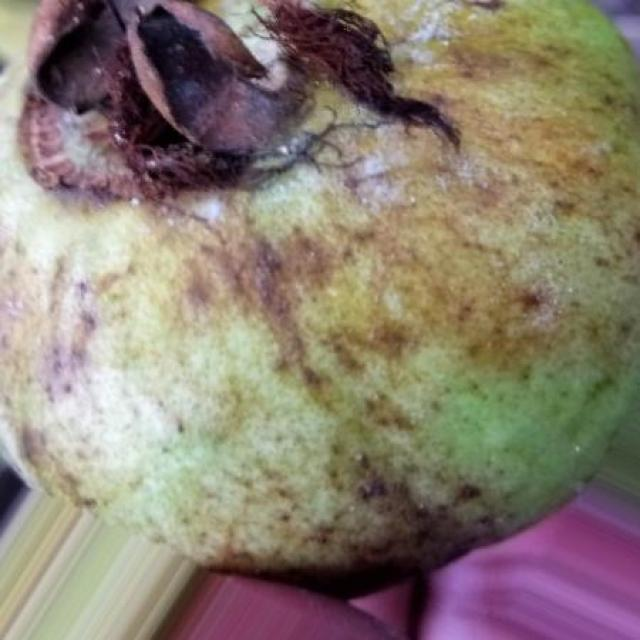Styler and Root: (0, 0, 640, 579)
